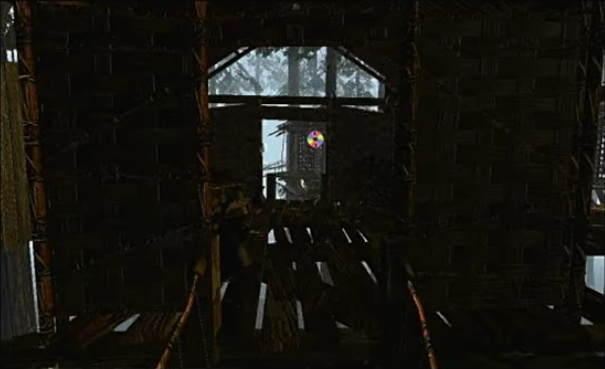Waiting: (303, 128, 326, 149)
